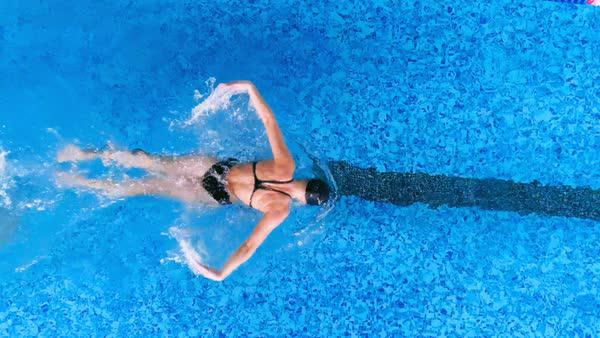human: (52, 81, 330, 282)
